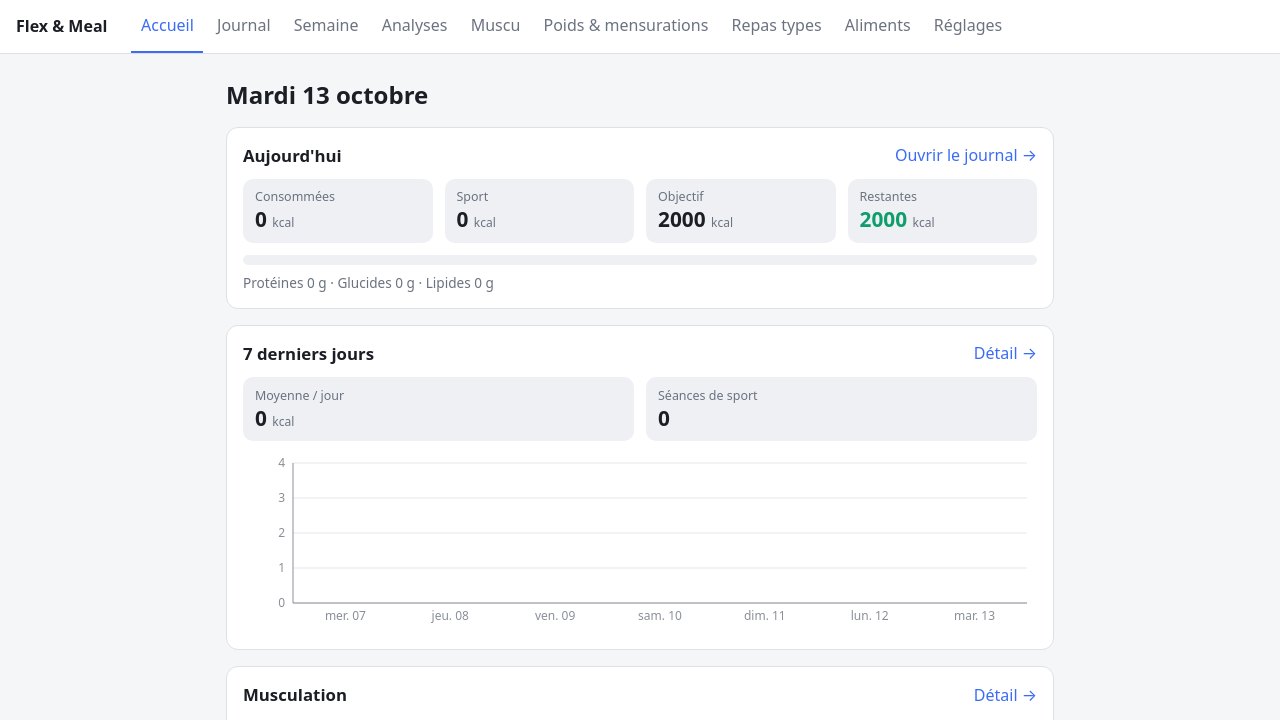
Test case: App › signale un échec d’enregistrement dans la base locale
Click the link "Poids & mensurations" at (626, 25), box [544, 14, 708, 36]
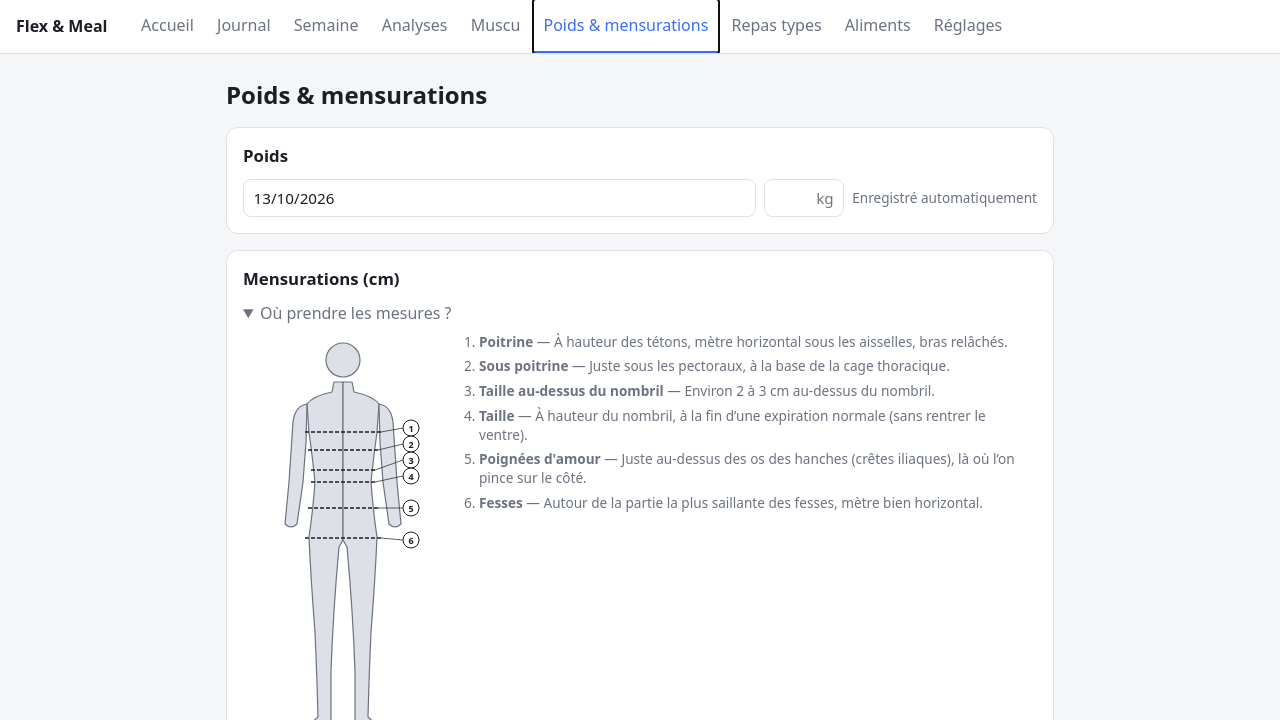
Type "70" into the field with placeholder "kg" at (804, 198), box [764, 179, 844, 217]
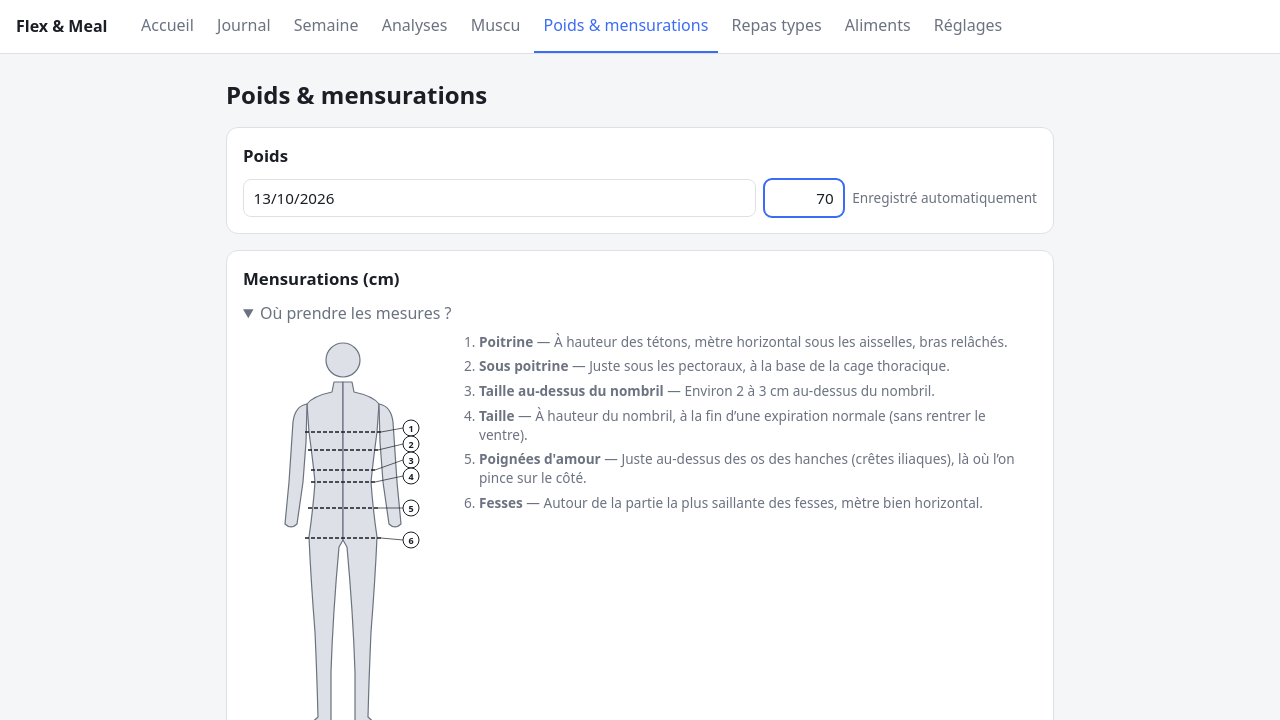
Press Tab
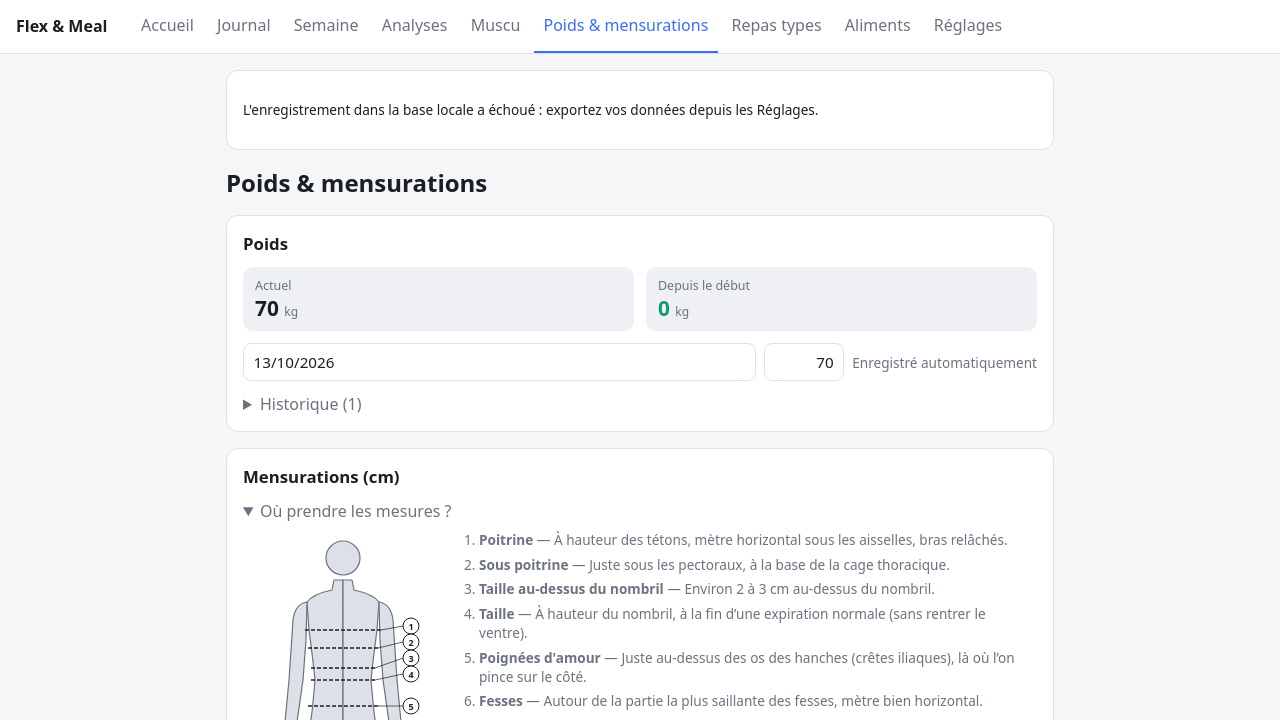
Result: the text "L'enregistrement dans la base locale a échoué" is shown at [243, 100, 818, 119]
